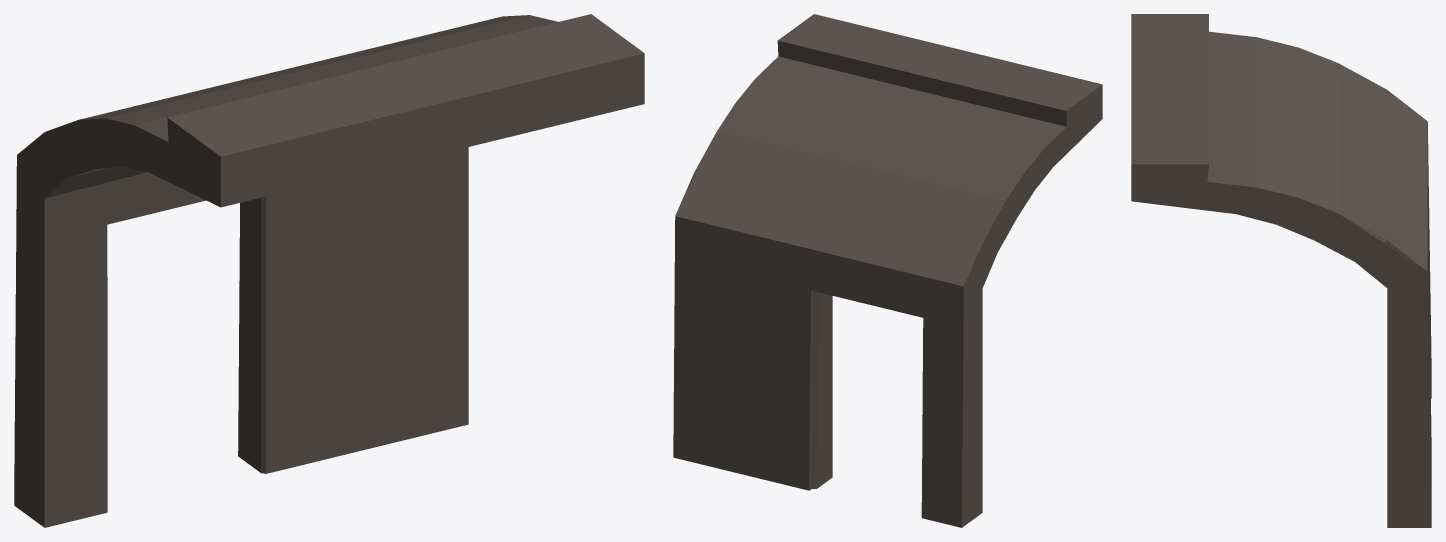
Rendered from MCastle_TunnelWalls_00.FBX.
The picture shows the model from 3 angles, left to right: view 1: azimuth 30°, elevation 25°; view 2: azimuth 150°, elevation 25°; view 3: azimuth 270°, elevation 25°; orthographic projection. The views are drawn at different scales.
Visible parts, largest first — view 1: MCastle_TunnelWalls_00_LOD0; view 2: MCastle_TunnelWalls_00_LOD0; view 3: MCastle_TunnelWalls_00_LOD0.
Boxes of the visible parts, x1,y1,x2,y2 form: MCastle_TunnelWalls_00_LOD0: [14, 14, 644, 527]; MCastle_TunnelWalls_00_LOD0: [673, 14, 1102, 527]; MCastle_TunnelWalls_00_LOD0: [1131, 14, 1431, 527].
Bounding box in the file's own units: 4 × 4.51 × 3.38.
